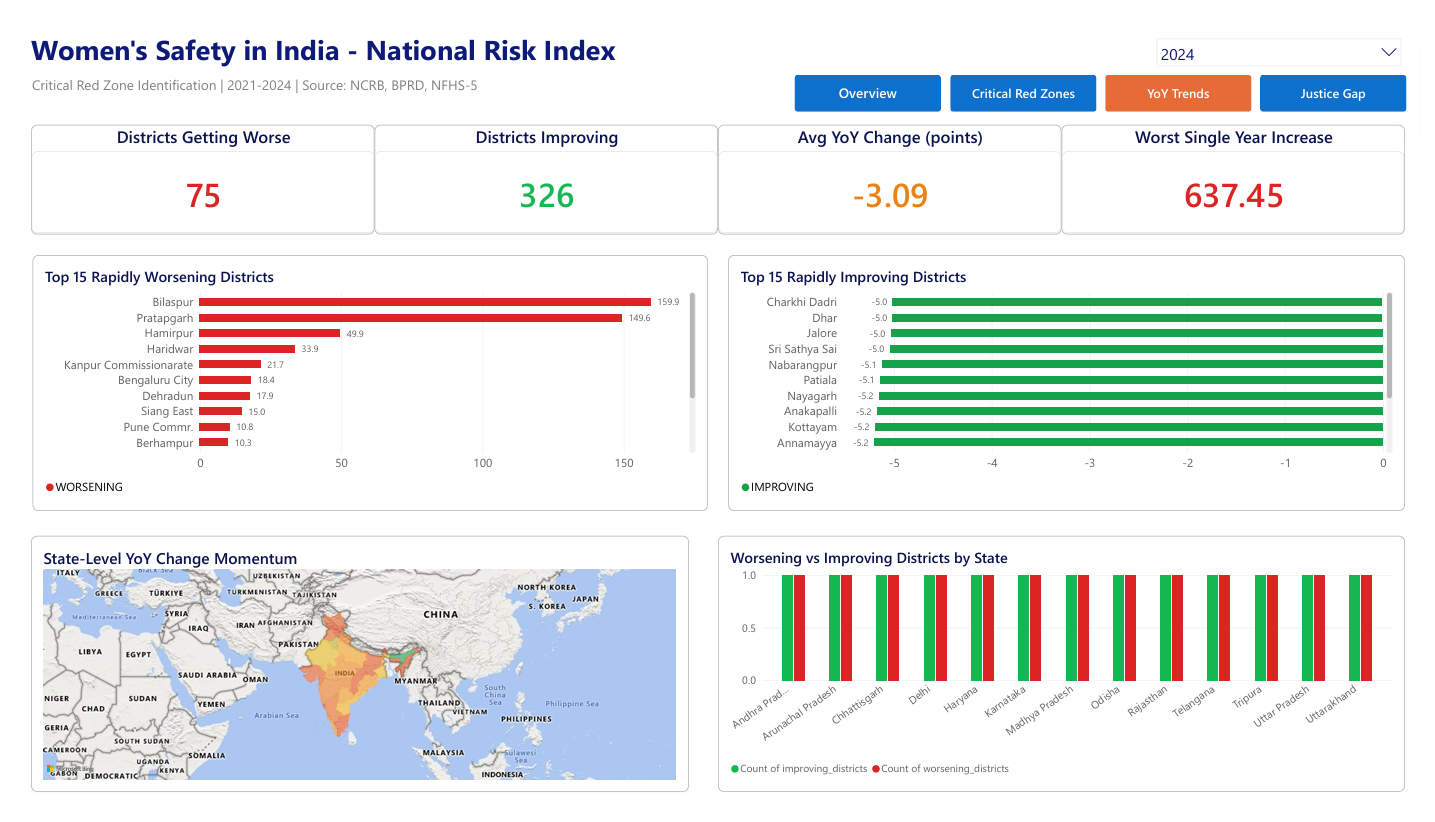

What the dashboard file says about the page in this screenshot:
{"tool":"powerbi","page":{"name":"Year-over-year Trends","canvas":[1920,1080],"ordinal":2},"visuals":[{"type":"textbox","box":[20,20,1500,60],"z":0},{"type":"textbox","box":[21.4,80,877.1,44.3],"z":1000},{"type":"textbox","box":[20,710,580,370],"z":2000},{"type":"cardVisual","title":"Districts Getting Worse","fields":{"Data":["_Measures.Worsening District Count"]},"box":[20,148,470,150],"z":3000},{"type":"cardVisual","title":"Districts Improving","fields":{"Data":["_Measures.Improving District Count"]},"box":[490,148,470,150],"z":4000},{"type":"cardVisual","title":"Avg YoY Change (points)","fields":{"Data":["_Measures.Avg YoY Change"]},"box":[960,148,470,150],"z":5000},{"type":"cardVisual","title":"Worst Single Year Increase","fields":{"Data":["_Measures.Worst YoY Increase"]},"box":[1430,148,470,150],"z":6000},{"type":"slicer","fields":{"Values":["master_risk_scores.Year"]},"box":[1550,20,350,80],"z":7000},{"type":"clusteredBarChart","title":"Top 15 Rapidly Worsening Districts","fields":{"Category":["yoy_trend_analysis.District"],"Series":["yoy_trend_analysis.trend_direction"],"Y":["Sum(yoy_trend_analysis.yoy_absolute_change)"]},"box":[22,326,924,350],"z":8000},{"type":"clusteredBarChart","title":"Top 15 Rapidly Improving Districts","fields":{"Category":["yoy_trend_analysis.District"],"Series":["yoy_trend_analysis.trend_direction"],"Y":["Sum(yoy_trend_analysis.yoy_absolute_change)"]},"box":[974,326,926,350],"z":9000},{"type":"filledMap","title":"State-Level YoY Change Momentum","fields":{"Category":["state_yoy_summary.State"]},"box":[20,710,900,350],"z":9001},{"type":"clusteredColumnChart","title":"Worsening vs Improving Districts by State","fields":{"Category":["state_yoy_summary.State"],"Y":["CountNonNull(state_yoy_summary.improving_districts)","CountNonNull(state_yoy_summary.worsening_districts)"]},"box":[960,710,940,350],"z":9002},{"type":"actionButton","box":[1065,80,200,50],"z":9003},{"type":"actionButton","box":[1278,80,200,50],"z":9004},{"type":"actionButton","box":[1490,80,200,50],"z":9005},{"type":"actionButton","box":[1702,80,200,50],"z":9006}]}

Visuals, with their boxes in screenshot pixels (x1, y1, x2, y2), scaled from the page's 1920x1080 canvas onto the 1435x822 screenshot:
textbox: (15, 15, 1136, 61)
textbox: (16, 61, 672, 95)
textbox: (15, 540, 448, 821)
"Districts Getting Worse" cardVisual: (15, 113, 366, 227)
"Districts Improving" cardVisual: (366, 113, 718, 227)
"Avg YoY Change (points)" cardVisual: (718, 113, 1069, 227)
"Worst Single Year Increase" cardVisual: (1069, 113, 1420, 227)
slicer - master_risk_scores.Year: (1158, 15, 1420, 76)
"Top 15 Rapidly Worsening Districts" clusteredBarChart: (16, 248, 707, 515)
"Top 15 Rapidly Improving Districts" clusteredBarChart: (728, 248, 1420, 515)
"State-Level YoY Change Momentum" filledMap: (15, 540, 688, 807)
"Worsening vs Improving Districts by State" clusteredColumnChart: (718, 540, 1420, 807)
actionButton: (796, 61, 945, 99)
actionButton: (955, 61, 1105, 99)
actionButton: (1114, 61, 1263, 99)
actionButton: (1272, 61, 1422, 99)
